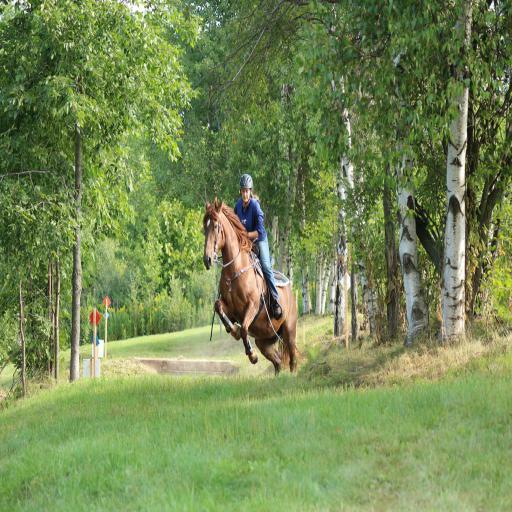horse: (202, 194, 308, 374)
